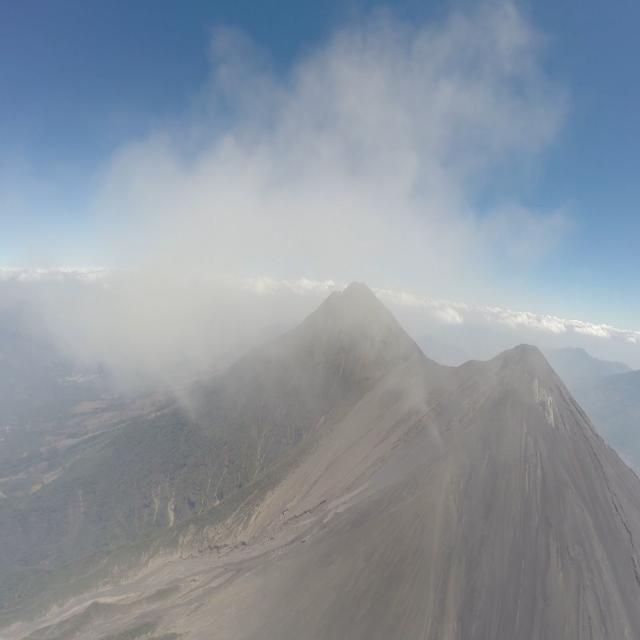Plume: (58, 2, 570, 412)
Summit: (448, 341, 610, 447)
